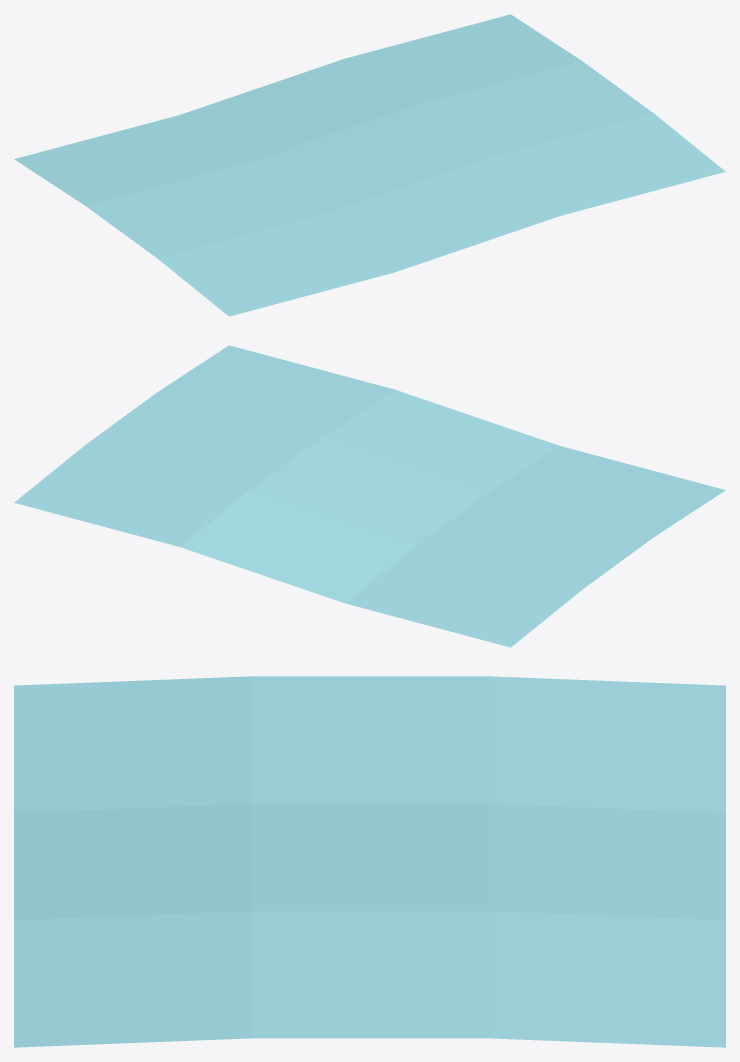
File: water_waves.glb
3 renders of one model, top to bottom at view 1: azimuth 30°, elevation 25°; view 2: azimuth 150°, elevation 25°; view 3: azimuth 270°, elevation 25°, orthographic. The views are drawn at different scales.
Visible parts, largest first — view 1: Wave; view 2: Wave; view 3: Wave.
Boxes of the visible parts, left/top/right/bottom form: Wave: left=14, top=14, right=725, bottom=316; Wave: left=14, top=345, right=725, bottom=647; Wave: left=14, top=676, right=725, bottom=1047.
Bounding box in the file's own units: 0.6 × 0.0337 × 0.45.
